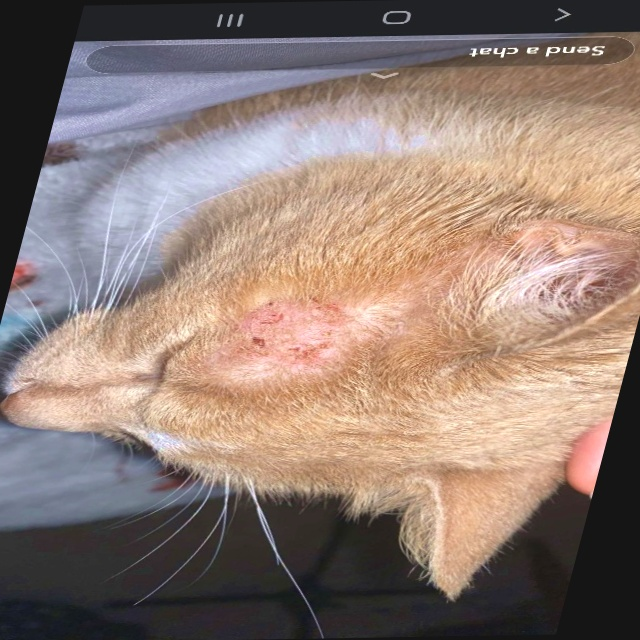ringworm: (229, 299, 403, 370)
